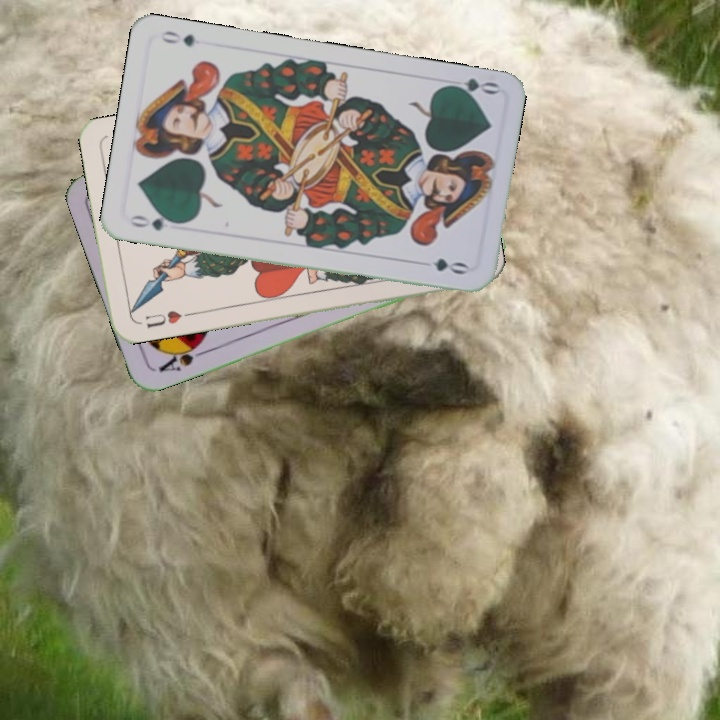GO: (440, 74, 501, 101), (125, 210, 184, 234)
HU: (141, 306, 193, 331)
SA: (154, 337, 209, 375)
